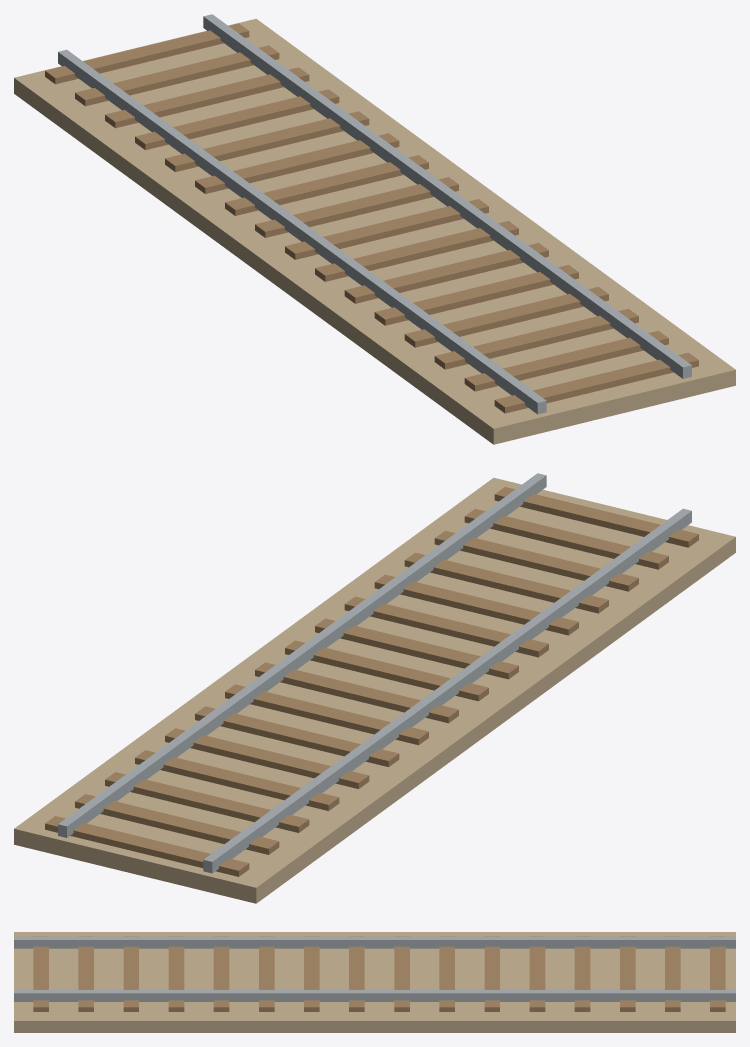
Rendered from rail_track_12m.glb.
3 renders of one model, top to bottom at view 1: azimuth 30°, elevation 25°; view 2: azimuth 150°, elevation 25°; view 3: azimuth 270°, elevation 25°, orthographic. The views are drawn at different scales.
Visible parts, largest first — view 1: part_0, part_2, part_1, part_18, part_16, part_3, part_13, part_17, part_14, part_4, part_5, part_8 (+7 smaller); view 2: part_0, part_2, part_1, part_3, part_5, part_7, part_14, part_15, part_8, part_16, part_6, part_18 (+7 smaller); view 3: part_0, part_1, part_2, part_6, part_7, part_14, part_15, part_3, part_4, part_5, part_9, part_10 (+7 smaller).
Part boxes in pixels (box(x1,y1,x2,y2)): part_0: box(14, 18, 735, 444); part_2: box(203, 14, 691, 378); part_1: box(58, 49, 546, 414); part_18: box(494, 352, 698, 413); part_16: box(434, 308, 638, 369); part_3: box(45, 23, 249, 84); part_13: box(344, 243, 548, 303); part_17: box(464, 330, 668, 391); part_14: box(374, 265, 578, 325); part_4: box(75, 45, 279, 106); part_5: box(105, 67, 309, 128); part_8: box(195, 133, 399, 193); part_0: box(14, 477, 735, 903); part_2: box(58, 473, 546, 837); part_1: box(203, 508, 691, 873); part_3: box(45, 816, 249, 876); part_5: box(105, 772, 309, 832); part_7: box(165, 728, 369, 788); part_14: box(374, 574, 578, 635); part_15: box(404, 552, 608, 613); part_8: box(195, 706, 399, 767); part_16: box(434, 530, 638, 591); part_6: box(135, 750, 339, 810); part_18: box(494, 487, 698, 547); part_0: box(14, 932, 735, 1032); part_1: box(14, 936, 735, 948); part_2: box(14, 990, 735, 1001); part_6: box(574, 936, 590, 1011); part_7: box(529, 936, 545, 1011); part_14: box(213, 936, 229, 1011); part_15: box(168, 936, 184, 1011); part_3: box(710, 936, 725, 1011); part_4: box(665, 936, 680, 1011); part_5: box(620, 936, 635, 1011); part_9: box(439, 936, 454, 1011); part_10: box(394, 936, 409, 1011).
Bounding box in the file's own units: 3.5 × 0.43 × 12.
